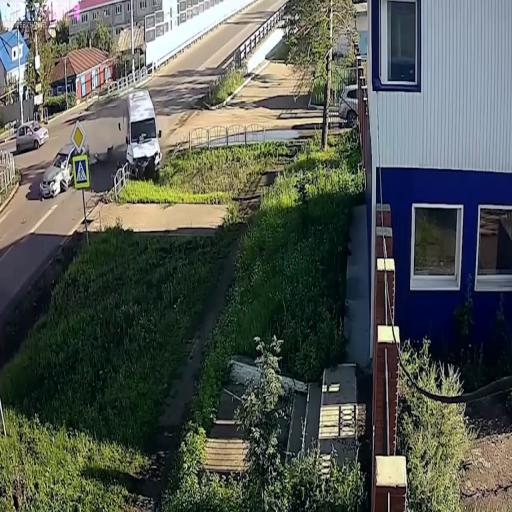小汽车: (129, 86, 163, 170), (38, 143, 90, 195), (15, 119, 51, 151)
